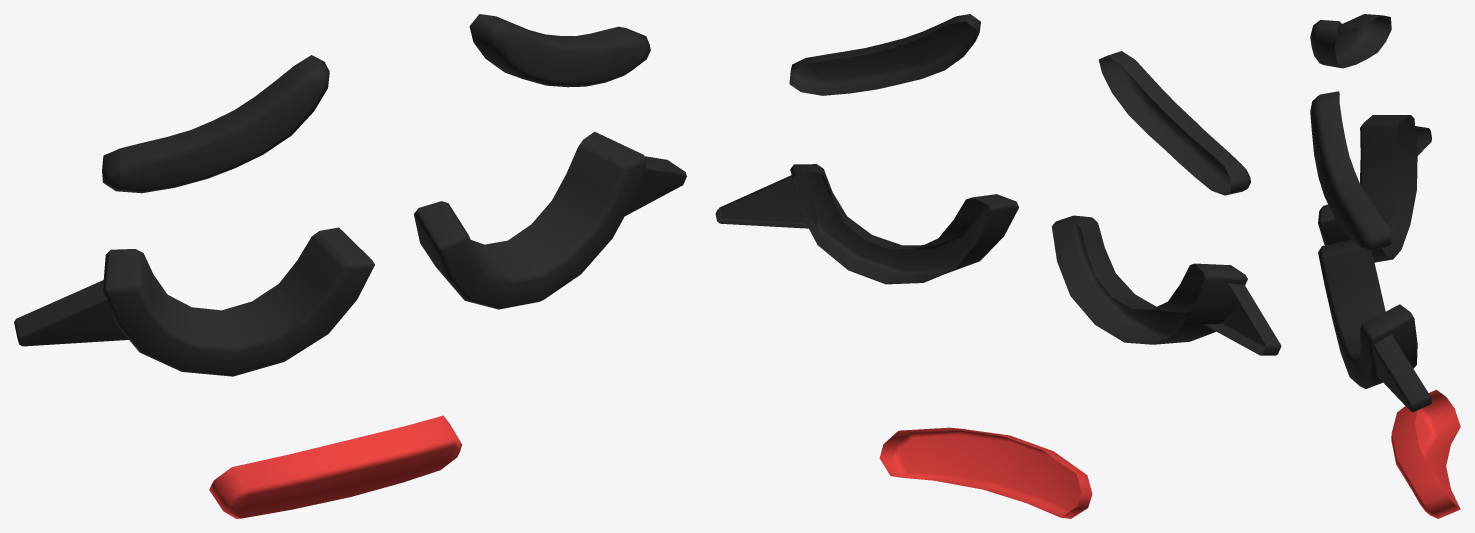
The model's file is Female_Emotion_Sad_02.glb.
3 renders of one model, left to right at view 1: azimuth 30°, elevation 25°; view 2: azimuth 150°, elevation 25°; view 3: azimuth 270°, elevation 25°, orthographic. The views are drawn at different scales.
Visible parts, largest first — view 1: Female_Emotion_Sad_02; view 2: Female_Emotion_Sad_02; view 3: Female_Emotion_Sad_02.
Part boxes in pixels (<box>): Female_Emotion_Sad_02: <box>14,14,686,518</box>; Female_Emotion_Sad_02: <box>715,14,1281,518</box>; Female_Emotion_Sad_02: <box>1310,14,1460,518</box>.
Bounding box in the file's own units: 0.3076 × 0.2212 × 0.0717.
Materials: 1 (1 with a texture image).
